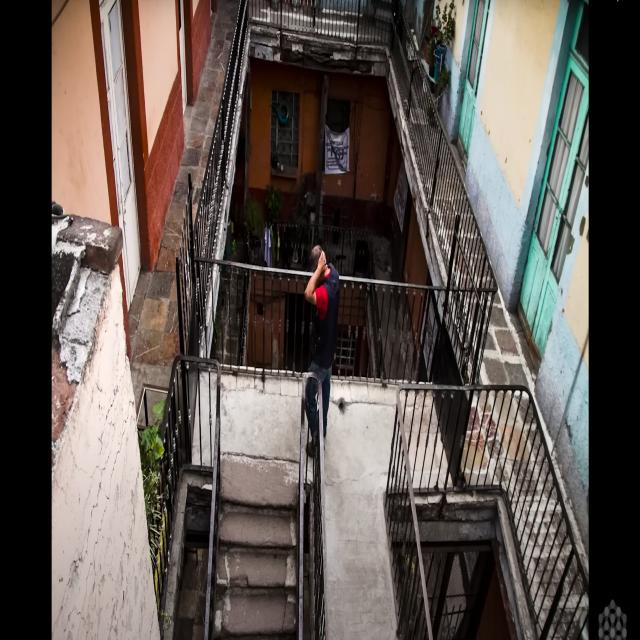stamps: (324, 127, 349, 173), (394, 162, 408, 232)
